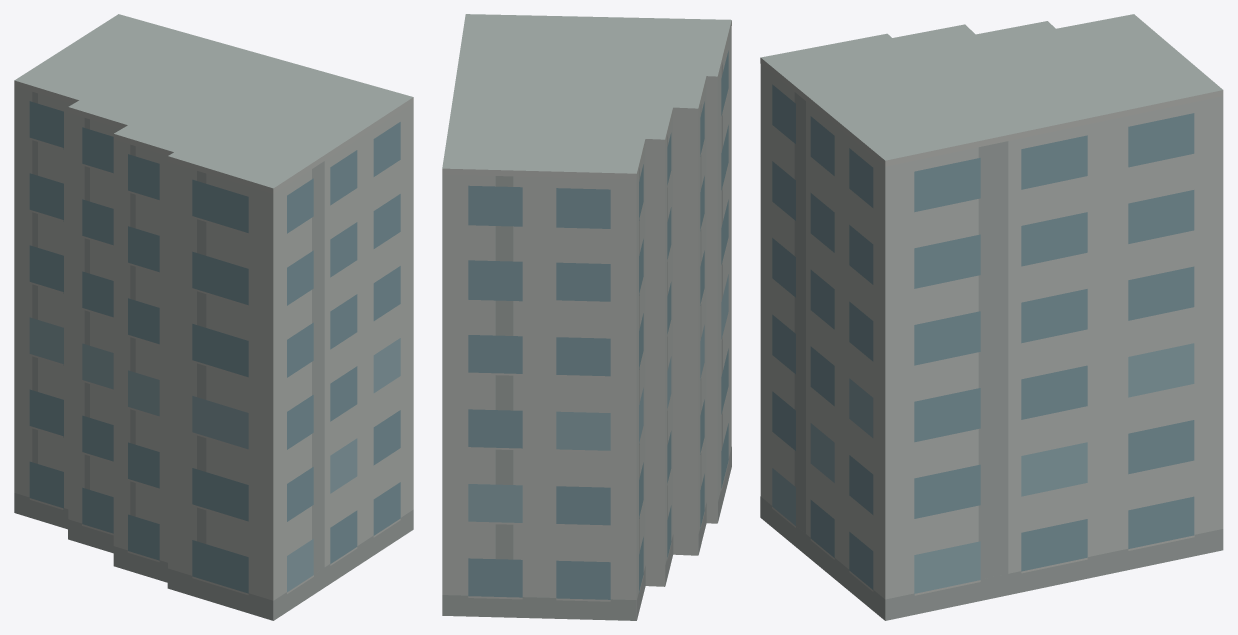
Rendered from survey-upis-32727705.glb.
3 renders of one model, left to right at view 1: azimuth 30°, elevation 25°; view 2: azimuth 150°, elevation 25°; view 3: azimuth 270°, elevation 25°, orthographic. The views are drawn at different scales.
Parts seen in each view (by area): view 1: survey-upis-32727705.tmp; view 2: survey-upis-32727705.tmp; view 3: survey-upis-32727705.tmp.
Boxes of the visible parts, left/top/right/bottom form: survey-upis-32727705.tmp: left=14, top=14, right=413, bottom=620; survey-upis-32727705.tmp: left=442, top=14, right=731, bottom=620; survey-upis-32727705.tmp: left=760, top=14, right=1223, bottom=620.
Bounding box in the file's own units: 12.51 × 18.3 × 16.69.
